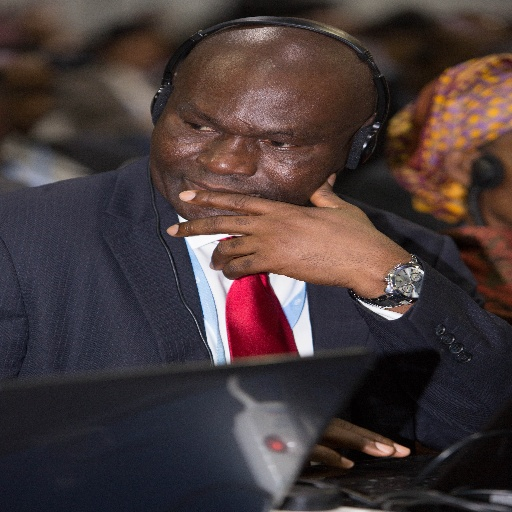hand: (189, 179, 400, 292), (307, 415, 411, 473)
